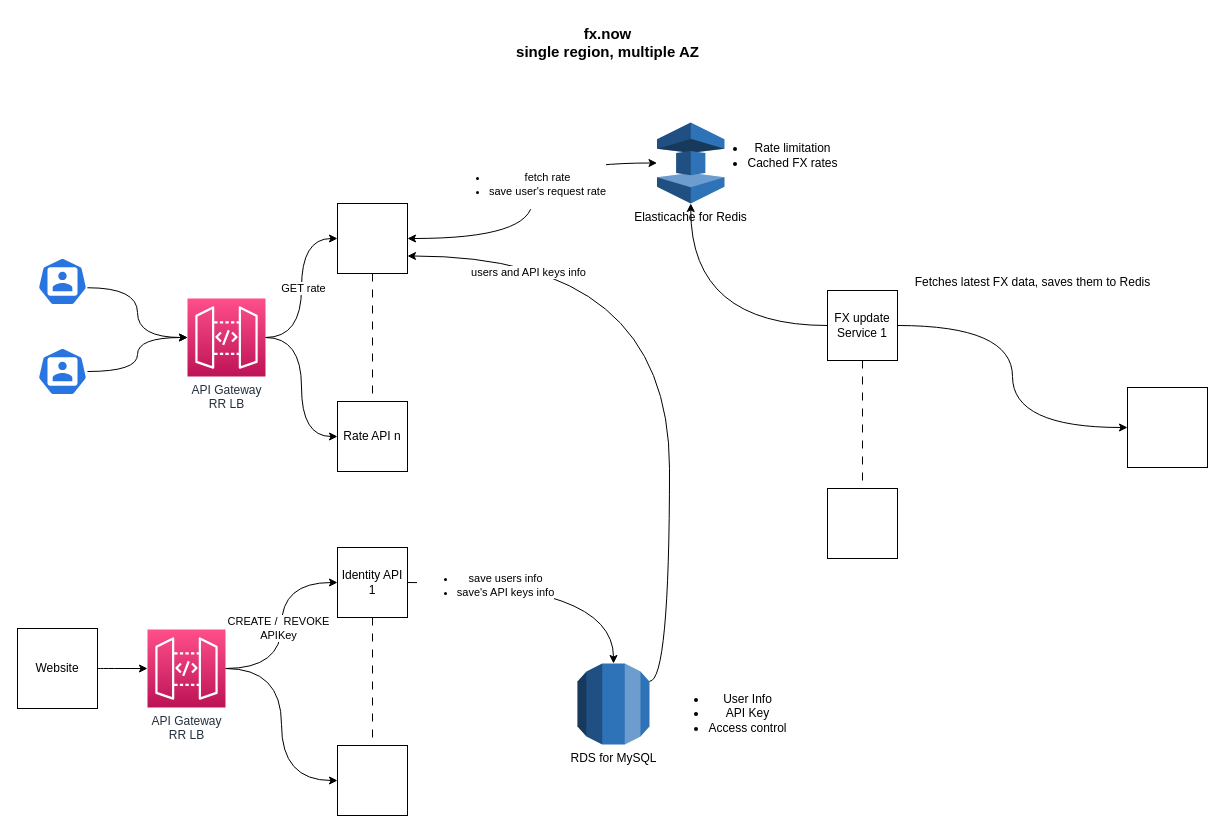
Some shapes in this 1225 by 833 pixel diagram are drawn without their labels. The shapes that lost their labels are listed below. From the top down, each one's centre as x and y in pixels, then its label:
At point 372,238: "Rate API 1".
At point 1167,427: "External FX Providers".
At point 862,523: "FX update Service n".
At point 372,780: "Identity API n".
